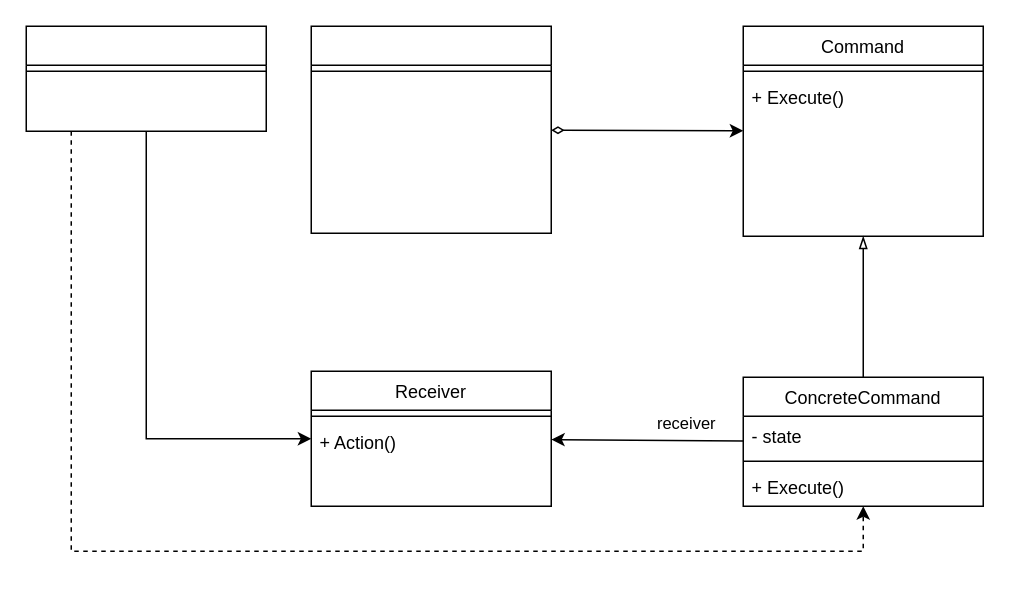
This 1010x590 diagram has some shape labels left out. Here are the shapes that lost their labels. From the top down, the centre of each, then its label:
At point 145,78: "Client".
At point 430,129: "Ivoker".
